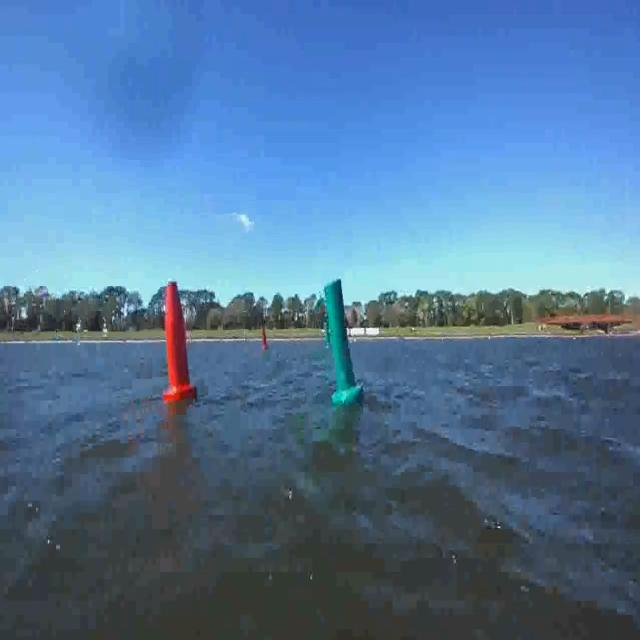green-column-buoy: (322, 276, 364, 407)
red-column-buoy: (162, 278, 196, 404), (264, 329, 270, 351)
